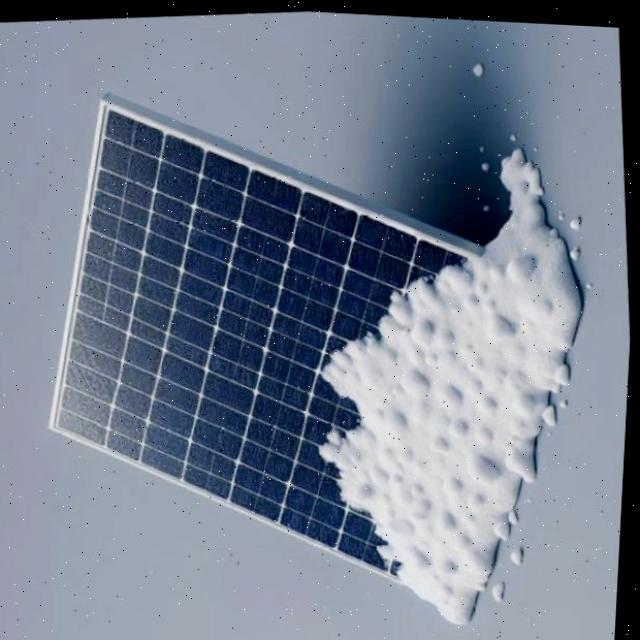Anomaly Solar Panel: (0, 102, 588, 605)
Snow: (266, 217, 566, 604)
